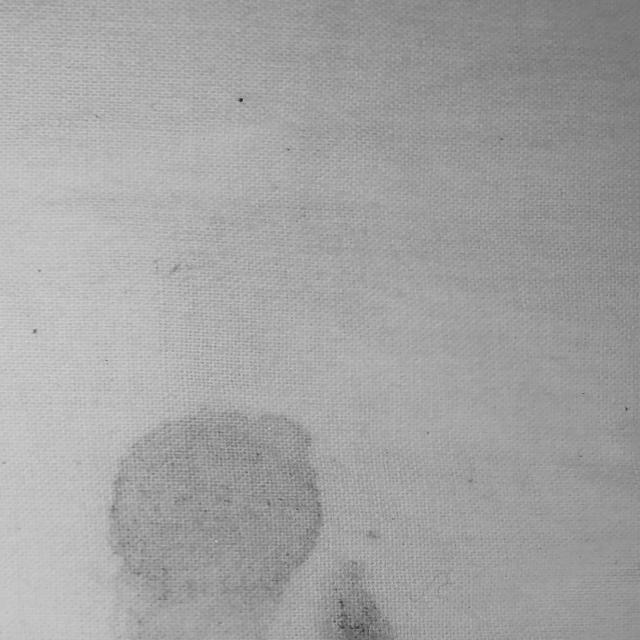Stain: (105, 405, 323, 640), (316, 556, 390, 640), (366, 530, 381, 541)
